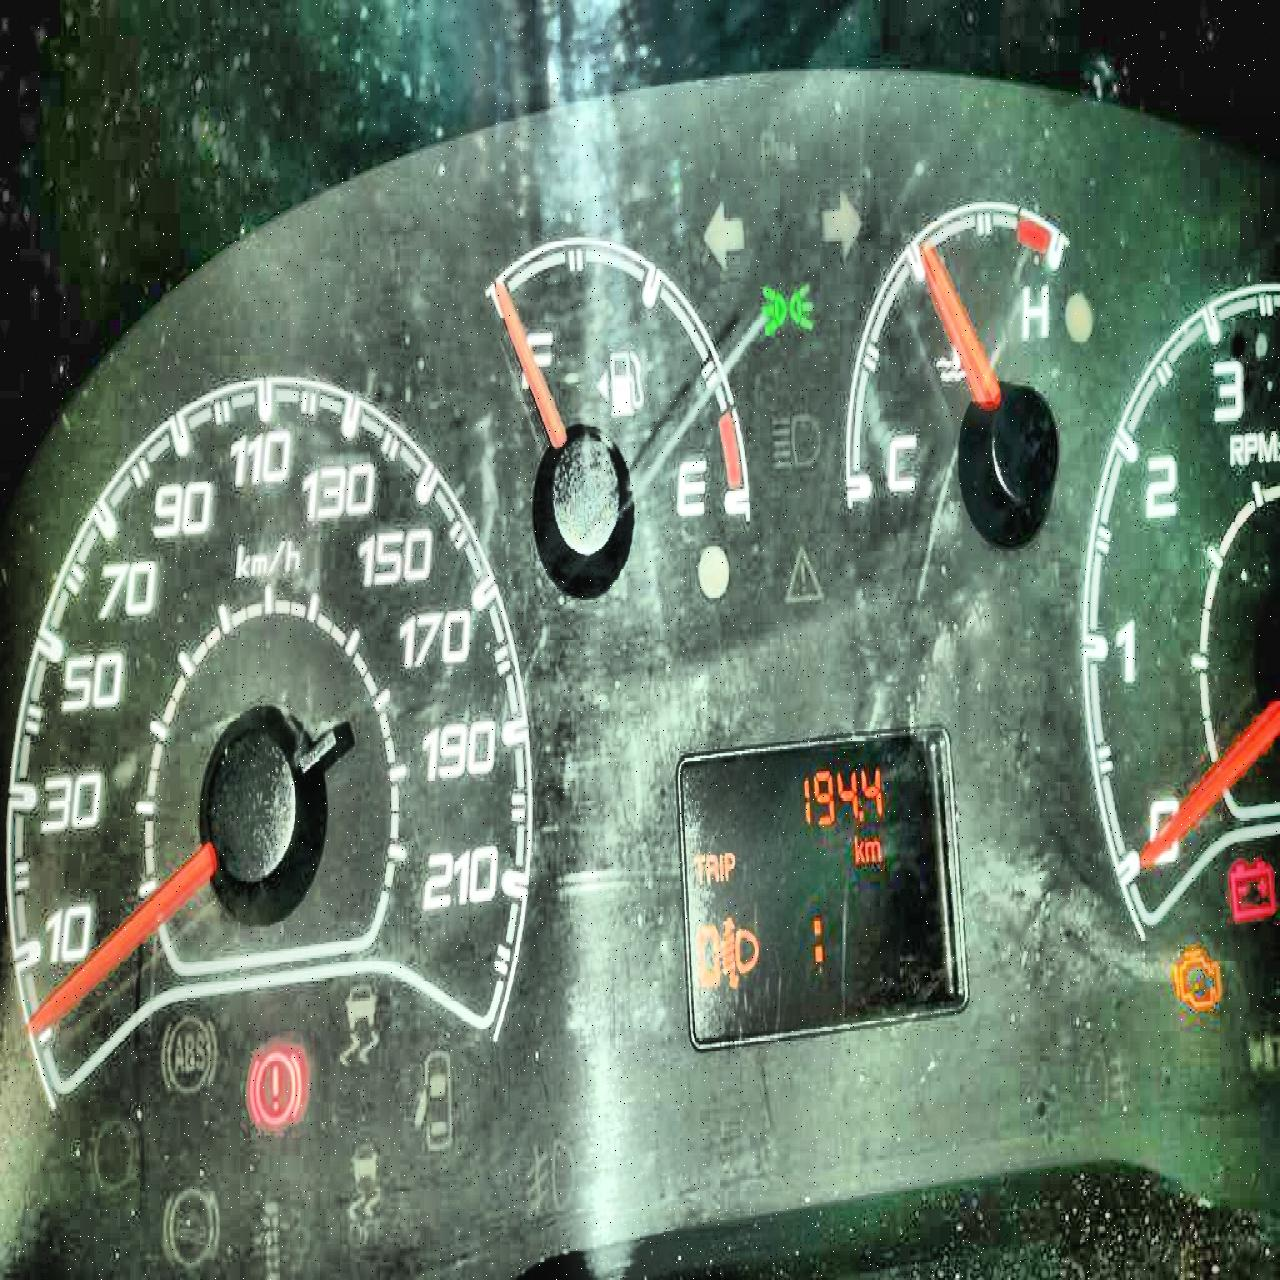-: (858, 809, 863, 821)
0: (696, 922, 719, 987)
1: (801, 774, 810, 824)
4: (859, 764, 881, 816), (835, 767, 856, 817)
9: (812, 769, 833, 824)
X: (811, 915, 821, 962), (864, 838, 881, 863), (693, 853, 706, 885), (704, 853, 717, 883), (852, 831, 864, 862), (722, 851, 734, 880), (717, 851, 722, 880)
odometer: (676, 722, 967, 1051)
